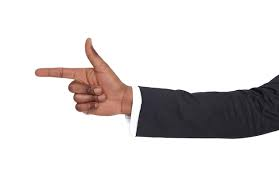pointing_gesture: (30, 37, 132, 117)
